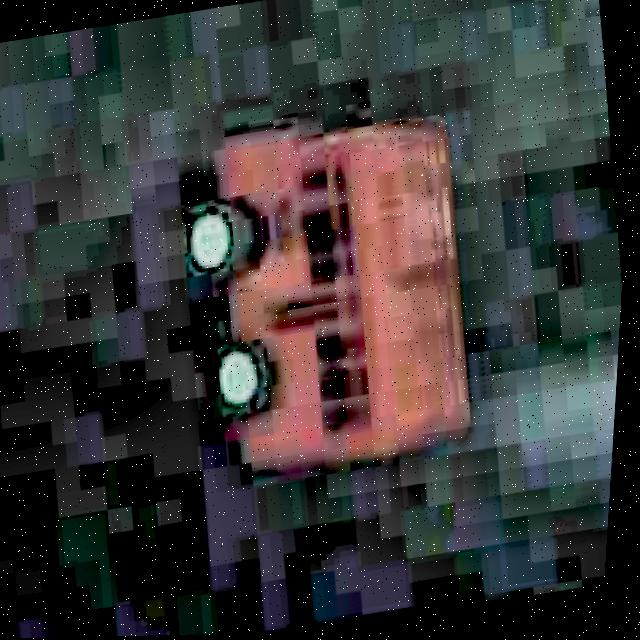bus: (146, 91, 507, 494)
